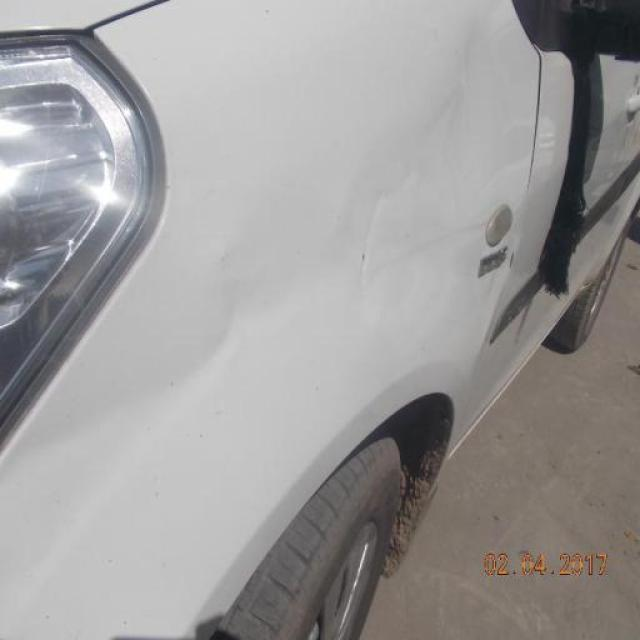dent: (189, 216, 255, 387), (435, 16, 484, 149), (355, 187, 395, 327)
